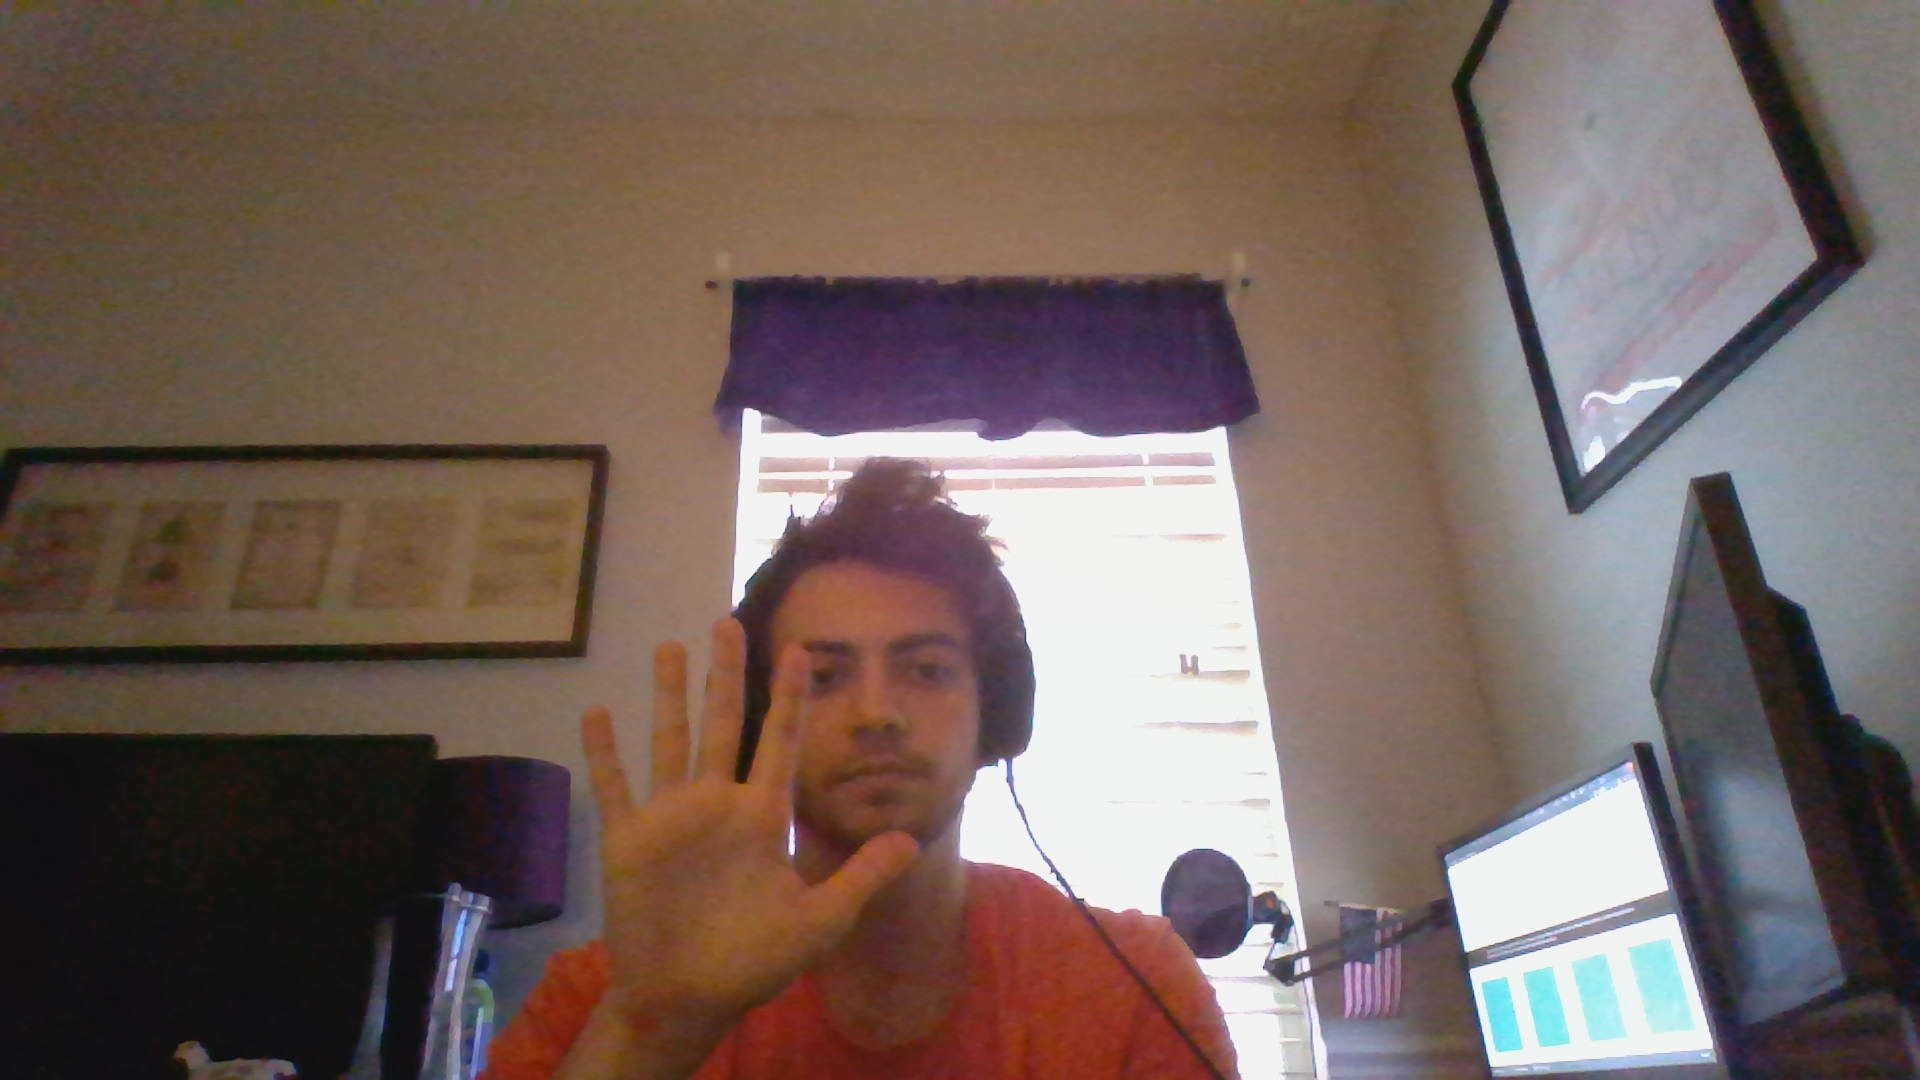Right Palm Up: (570, 611, 924, 1027)
